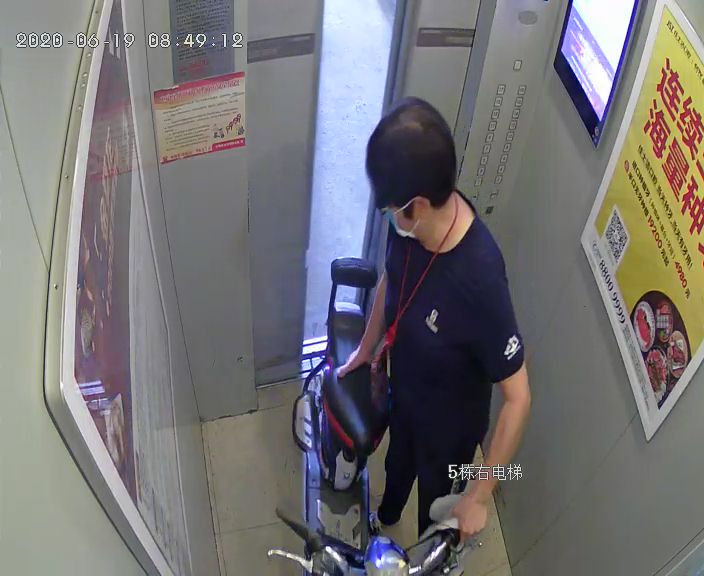Electric-bicycle: (266, 256, 464, 576)
